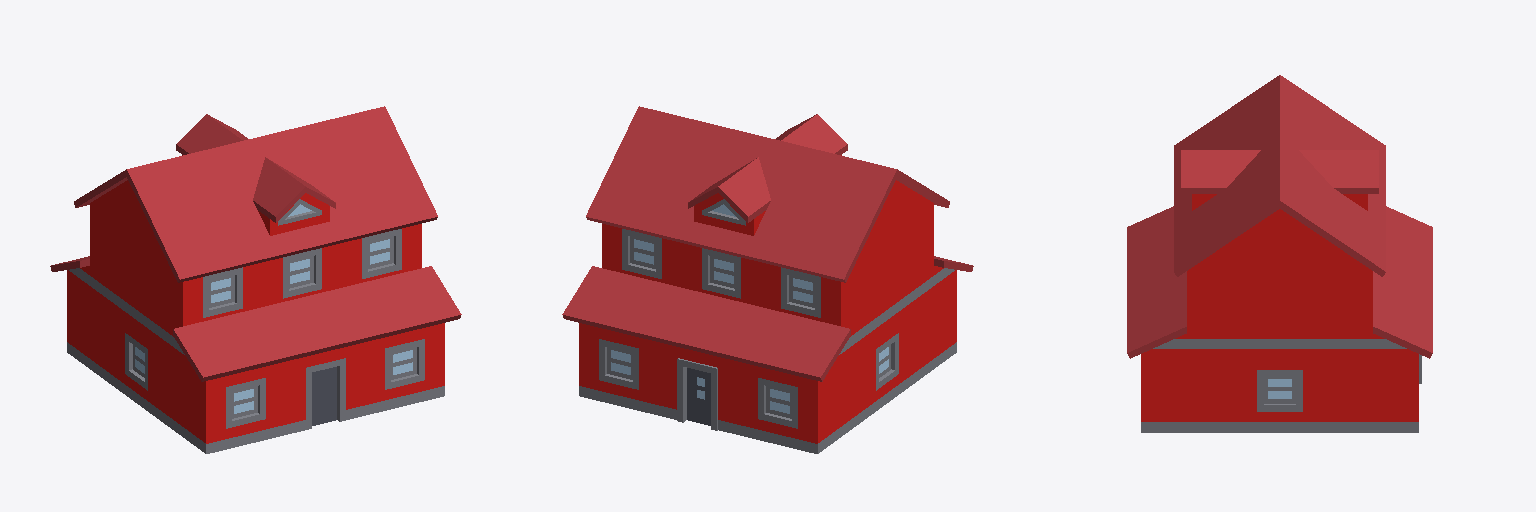
Rendered from insta_residential_wood_2.obj.
3 views of the same model, side by side, from view 1: azimuth 30°, elevation 25°; view 2: azimuth 150°, elevation 25°; view 3: azimuth 270°, elevation 25° (orthographic).
Parts seen in each view (by area): view 1: city_residential_2; view 2: city_residential_2; view 3: city_residential_2.
Boxes of the visible parts, box(x1,y1,x2,y2) form: city_residential_2: box(50, 106, 461, 453); city_residential_2: box(562, 106, 973, 453); city_residential_2: box(1127, 75, 1432, 432).
Bounding box in the file's own units: 0.936 × 0.819 × 0.9596.